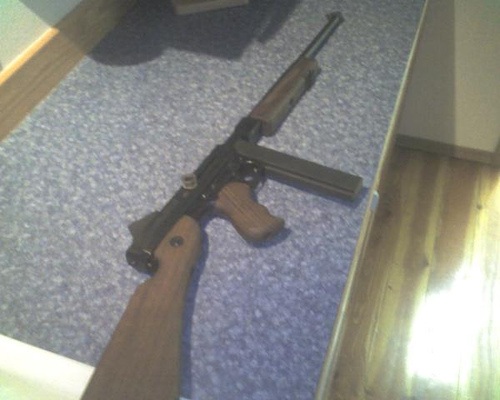rifle: (63, 12, 350, 395)
